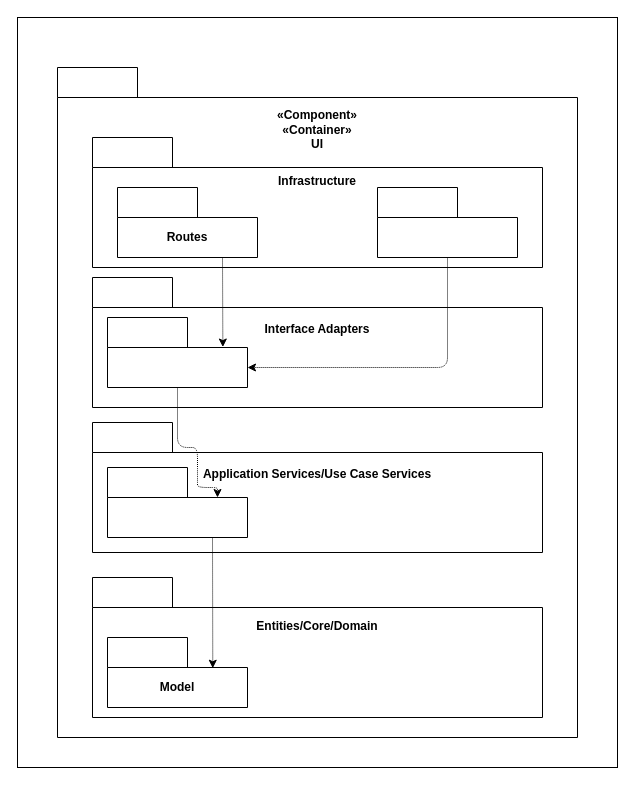
Some shapes in this 635 by 785 pixel diagram are drawn without their labels. The shapes that lost their labels are listed below. From the top down, each one's centre as x and y in pixels, then its label:
[447,222]: Component
[177,352]: Module
[177,502]: App Services
